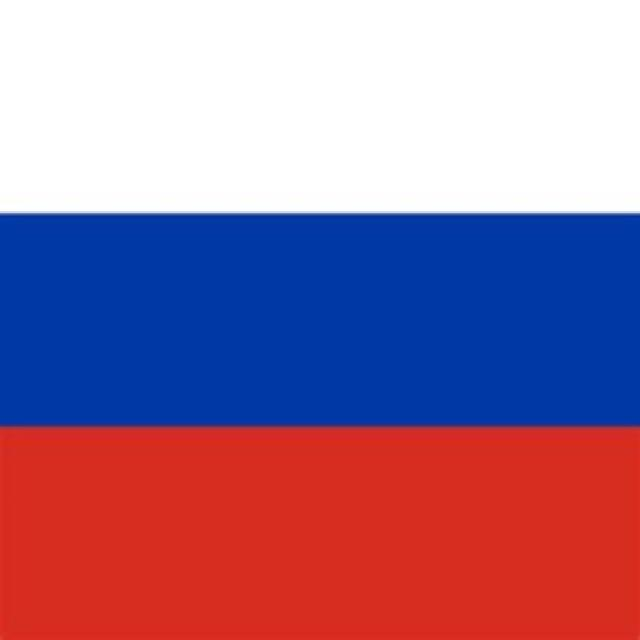russia: (4, 7, 639, 630)
